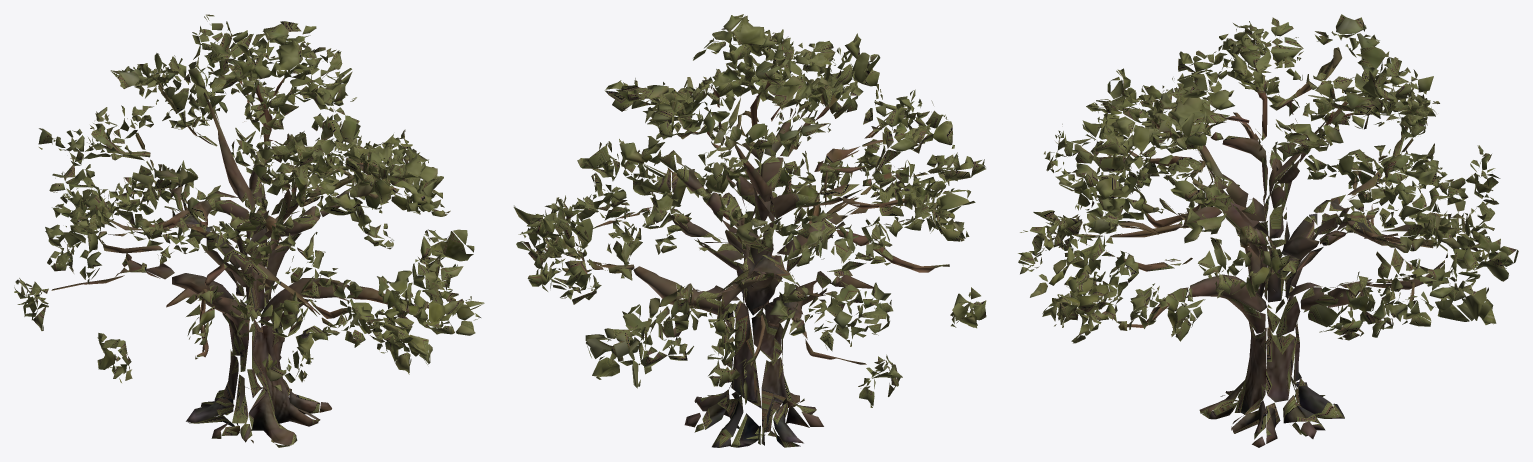
File: tree.glb
3 views of the same model, side by side, from view 1: azimuth 30°, elevation 25°; view 2: azimuth 150°, elevation 25°; view 3: azimuth 270°, elevation 25° (orthographic). The views are drawn at different scales.
Size of the model in its own units: 0.8932 by 0.8564 by 1.
Materials: 1 (1 with a texture image).
